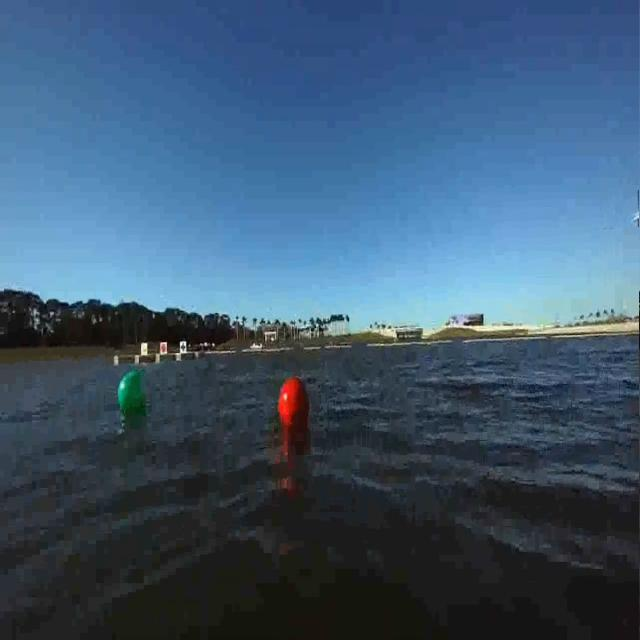green-buoy: (109, 360, 160, 424)
red-buoy: (274, 374, 318, 442)
